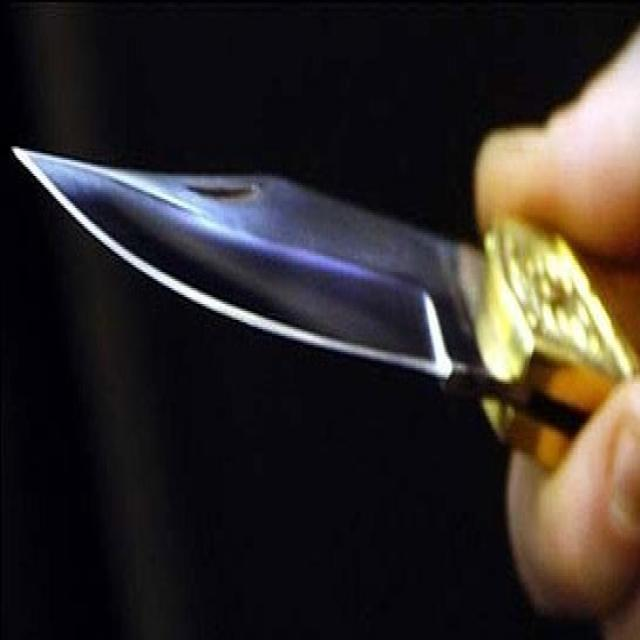knife: (6, 133, 580, 435)
